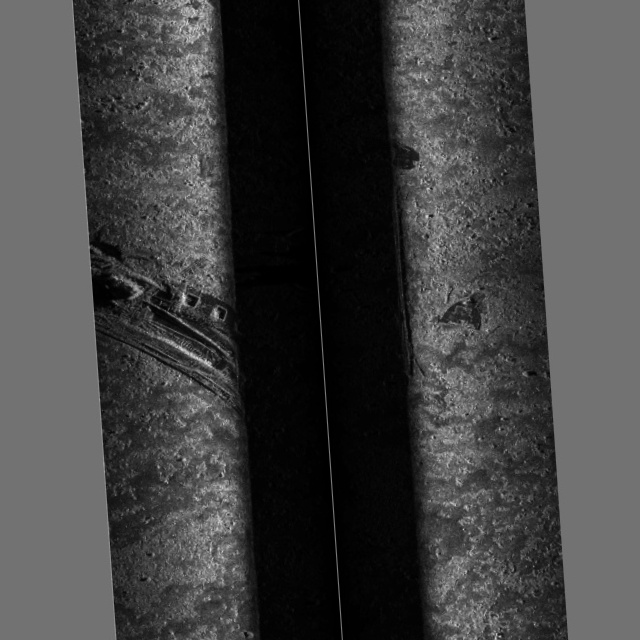Shipwreck: (83, 130, 505, 431)
